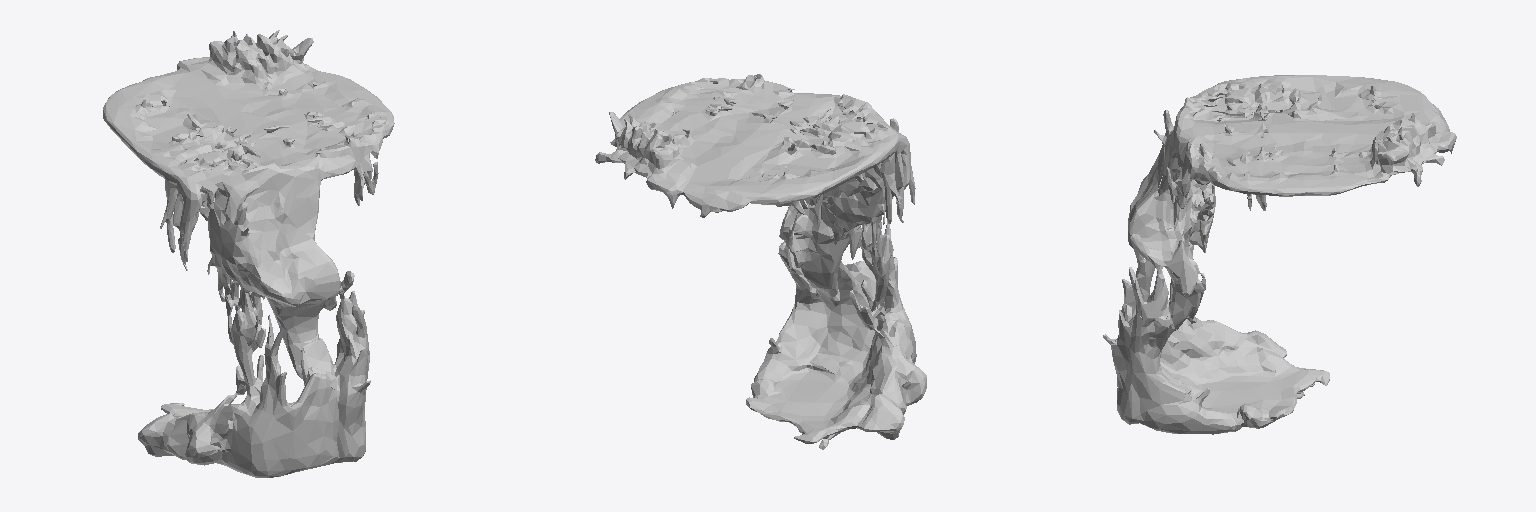
The model's file is 2c5d61b27d41_A_swampy_water_stre.obj.
The picture shows the model from 3 angles: view 1: azimuth 30°, elevation 25°; view 2: azimuth 150°, elevation 25°; view 3: azimuth 270°, elevation 25°; orthographic projection.
Parts seen in each view (by area): view 1: mesh; view 2: mesh; view 3: mesh.
Part boxes in pixels (bbox=[...]): mesh: bbox=[103, 30, 394, 477]; mesh: bbox=[595, 74, 926, 449]; mesh: bbox=[1103, 75, 1456, 434].
Size of the model in its own units: 0.8004 by 0.9995 by 0.9711.